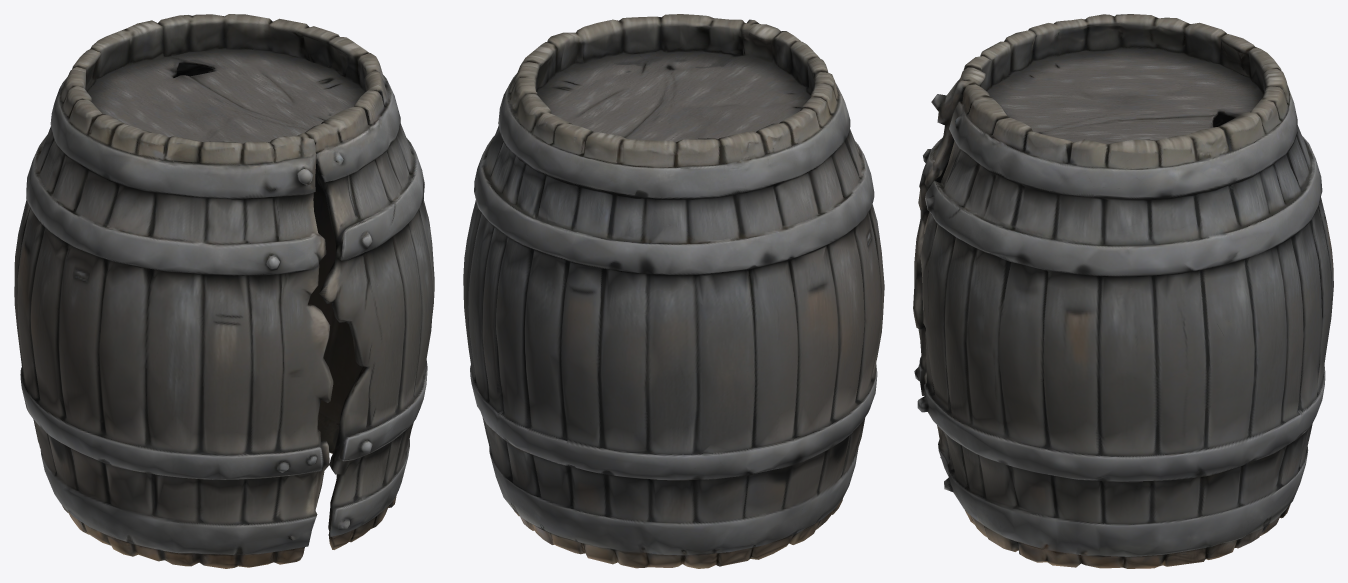
Rendered from wooden_barrel_cracked.glb.
3 renders of one model, left to right at view 1: azimuth 30°, elevation 25°; view 2: azimuth 150°, elevation 25°; view 3: azimuth 270°, elevation 25°, orthographic.
Bounding box in the file's own units: 1.81 × 2 × 1.8.
Materials: 1 (1 with a texture image).
